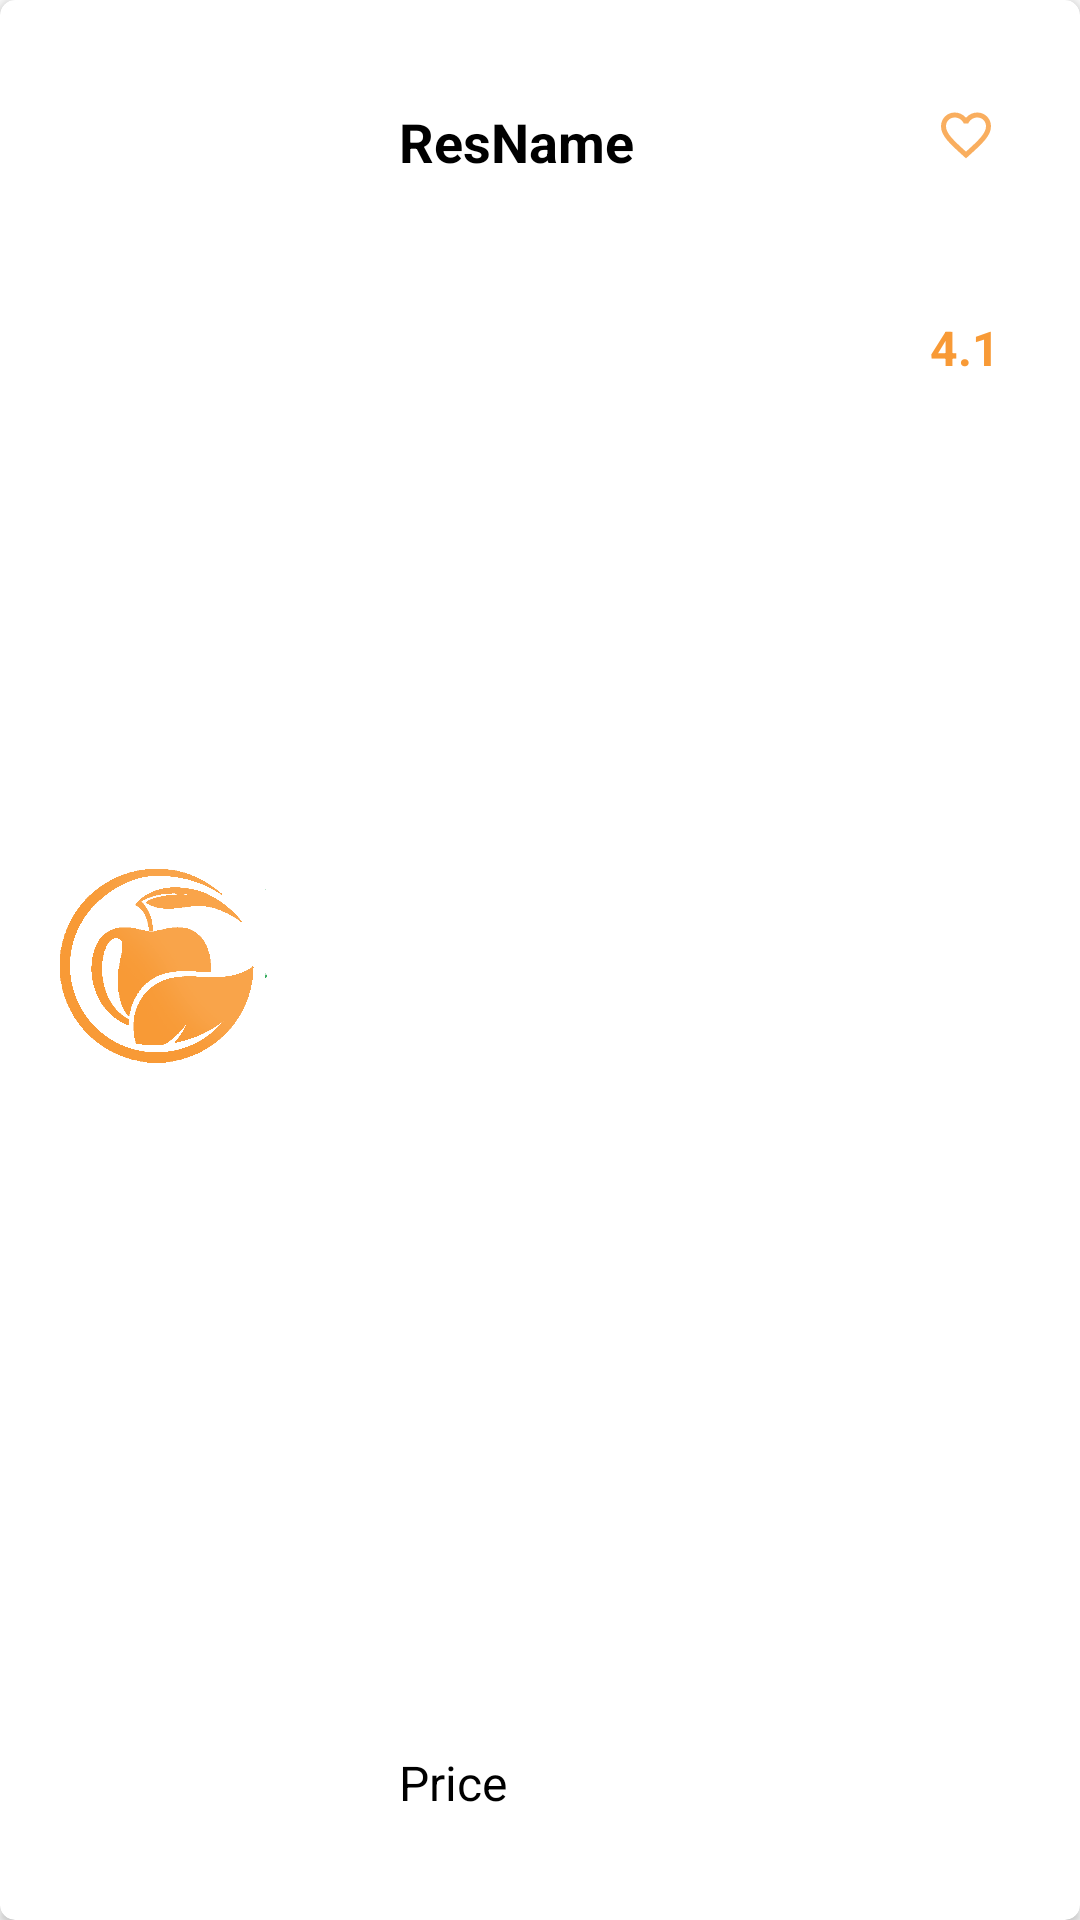

Icons on this 1080px x 1920px Android screen, each with its box as rect(x1, y1, x2, y2):
favourite: rect(941, 112, 991, 158)
